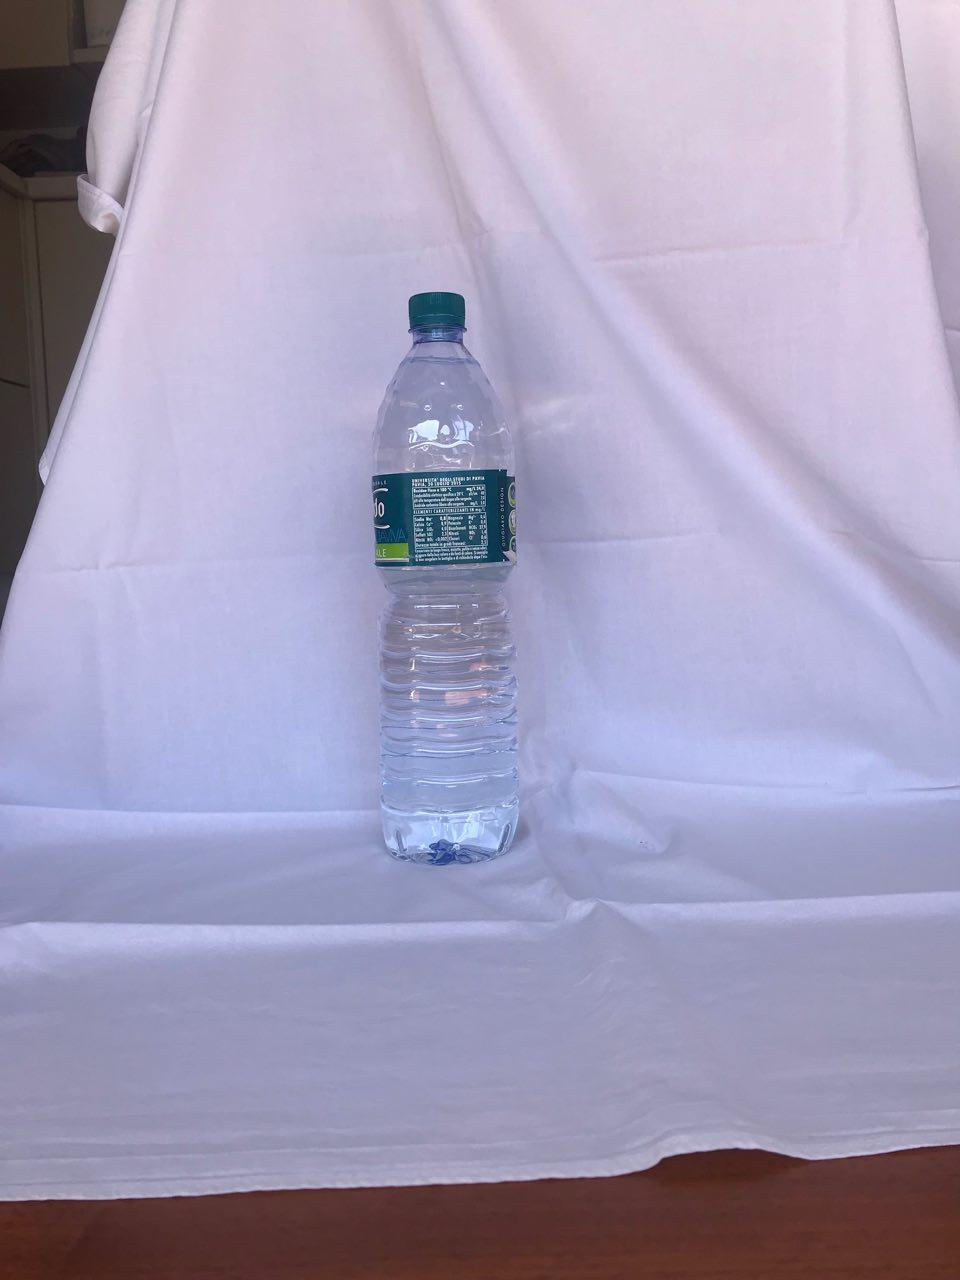san_bernardo: (370, 290, 521, 867)
